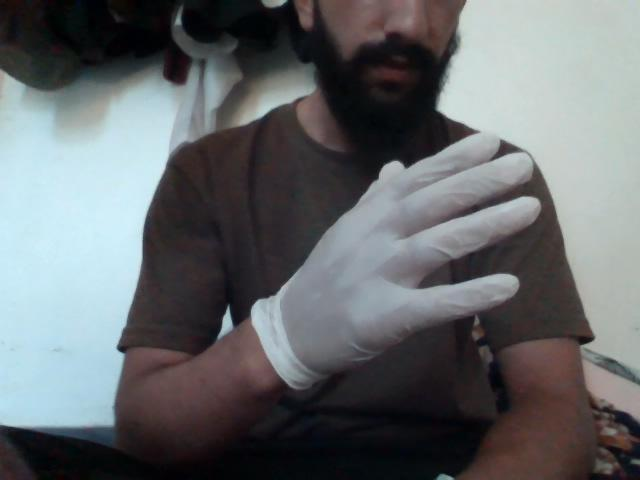gloves: (257, 117, 549, 389)
